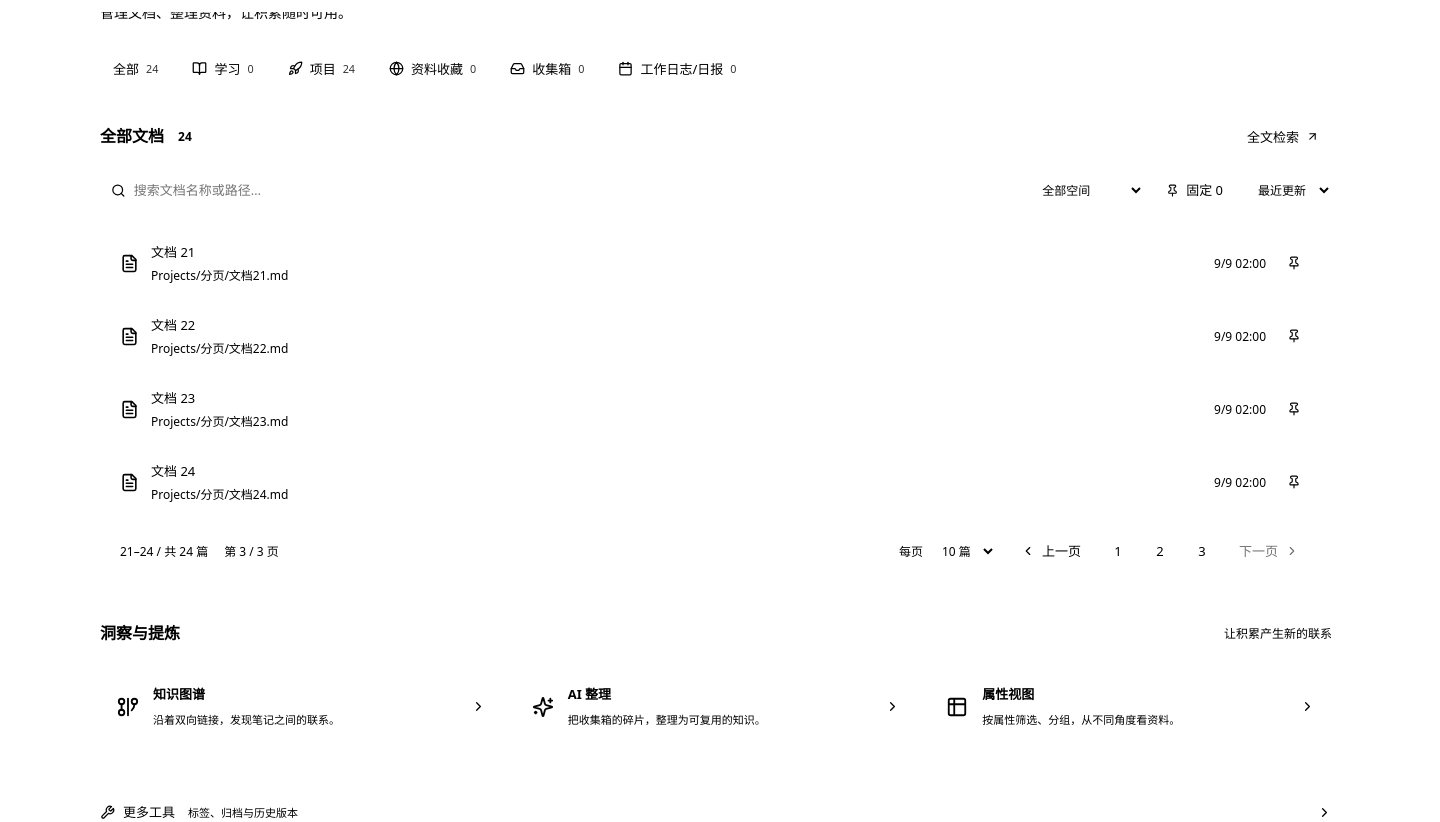
Test case: KnowledgeVaultView pagination › resets to page one after changing the space filter
(page scrolled)
Select "项目" in the dropdown named "文档空间": (1087,190) [1029,172,1144,209]
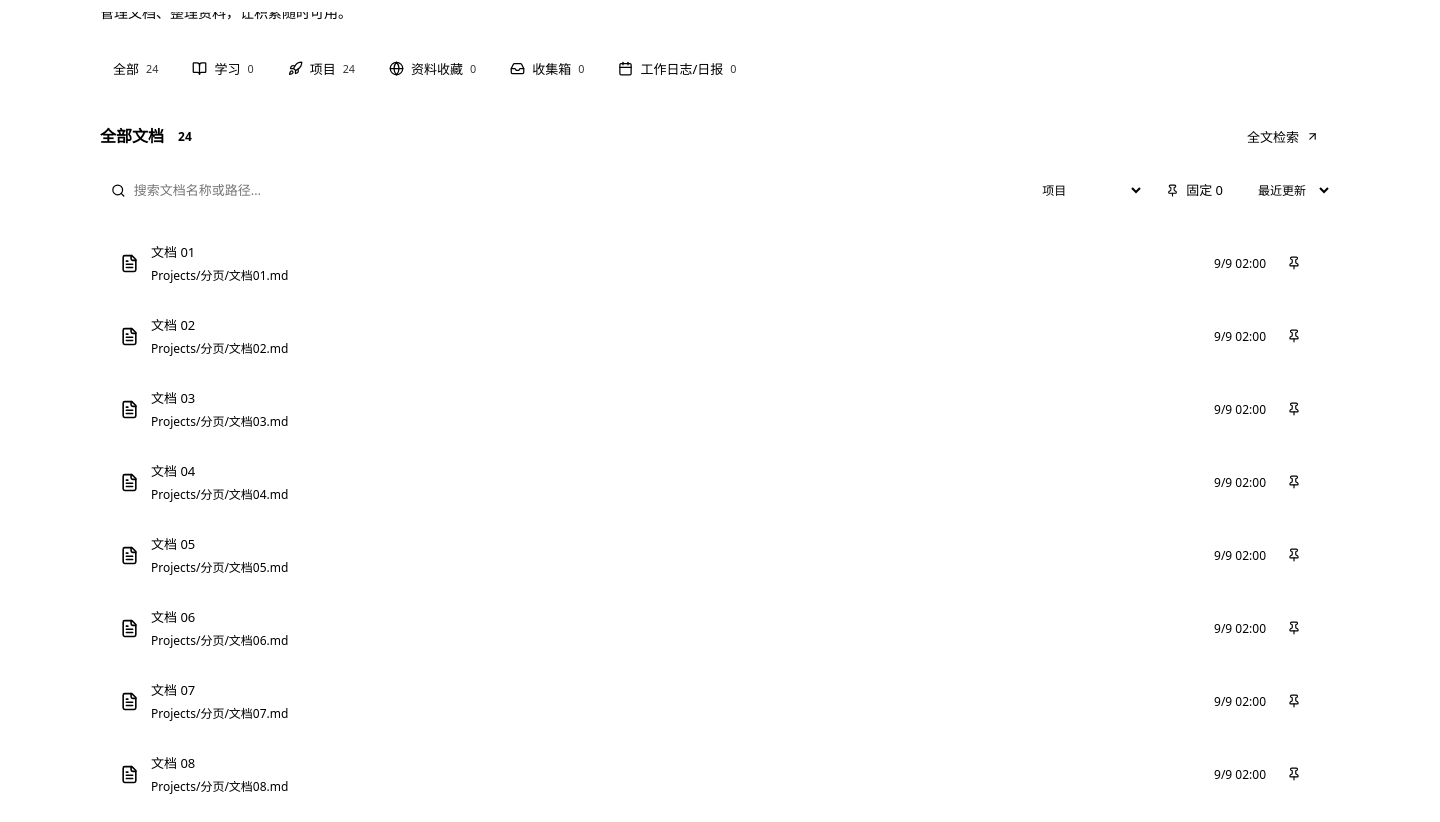
expect the element with test id "vault-document" shows "文档 01": met, box [120,239,1204,288]
